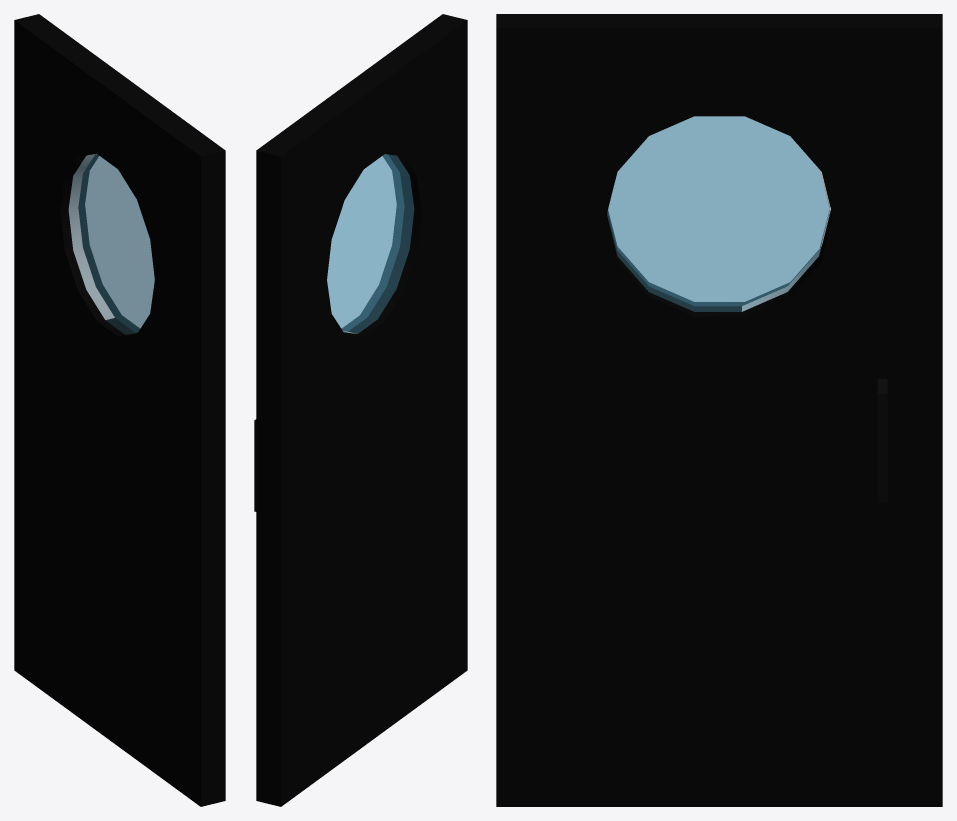
Rendered from puertaAlmacen (1).fbx.
3 renders of one model, left to right at view 1: azimuth 30°, elevation 25°; view 2: azimuth 150°, elevation 25°; view 3: azimuth 270°, elevation 25°, orthographic. The views are drawn at different scales.
Parts seen in each view (by area): view 1: Object002, Group001; view 2: Object002, Group001; view 3: Object002, Group001, Box002.
Part boxes in pixels (<box>): Object002: <box>14,14,225,806</box>; Group001: <box>69,154,154,334</box>; Object002: <box>256,14,467,806</box>; Group001: <box>327,154,413,333</box>; Object002: <box>496,14,942,806</box>; Group001: <box>607,116,829,311</box>; Box002: <box>877,379,887,502</box>.
Size of the model in its own units: 0.2002 by 2.5 by 1.3.
